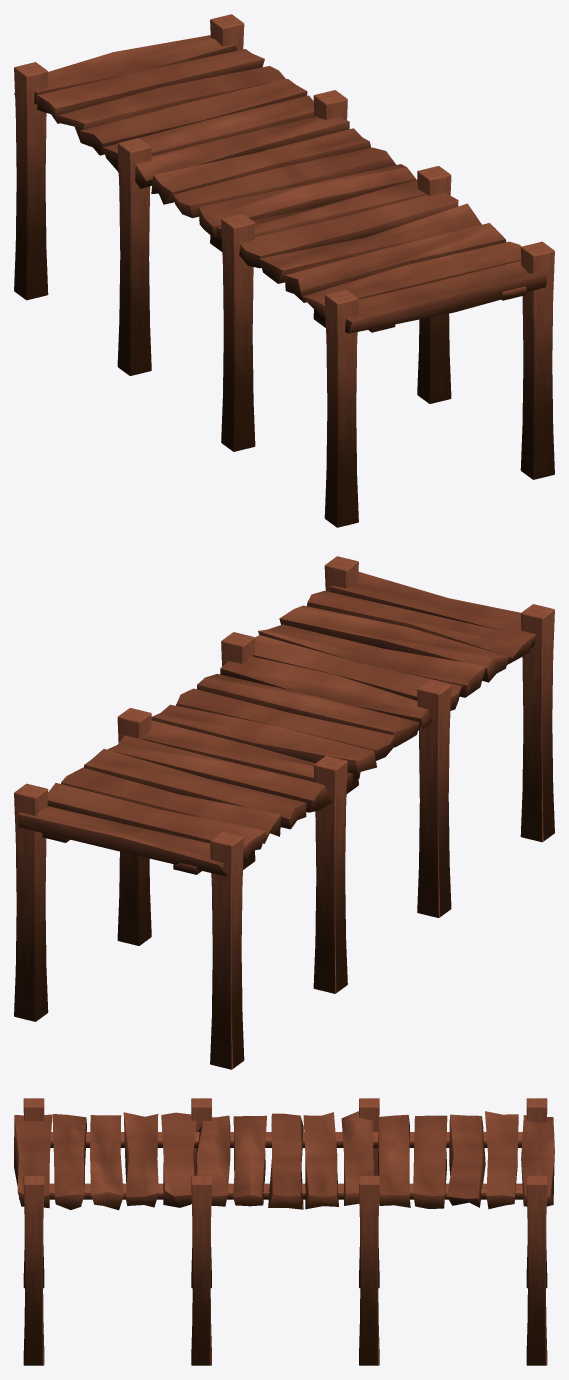
File: Dock.fbx
The picture shows the model from 3 angles, top to bottom: view 1: azimuth 30°, elevation 25°; view 2: azimuth 150°, elevation 25°; view 3: azimuth 270°, elevation 25°; orthographic projection. The views are drawn at different scales.
Visible parts, largest first — view 1: Cube, Cube.001; view 2: Cube, Cube.001; view 3: Cube, Cube.001, Cube.002.
Boxes of the visible parts, x1,y1,x2,y2 form: Cube: (14,35,548,333); Cube.001: (14,14,554,527); Cube: (17,572,536,876); Cube.001: (14,556,554,1069); Cube: (14,1111,554,1210); Cube.001: (23,1098,547,1365); Cube.002: (19,1132,523,1199).
Bounding box in the file's own units: 216 × 212 × 572.
1 material, 1 textured.
